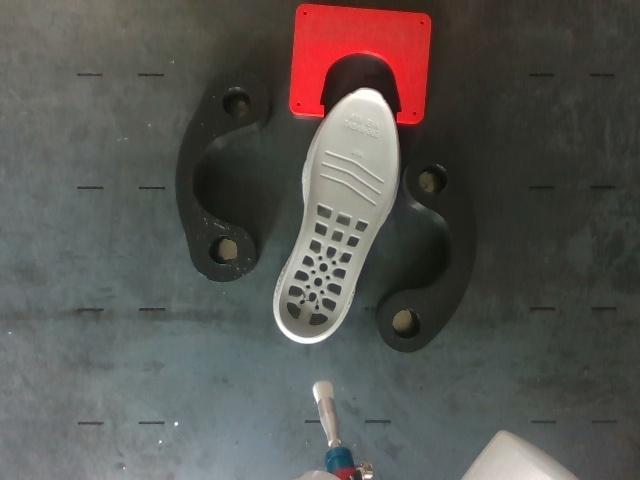shoes: (279, 89, 398, 337)
